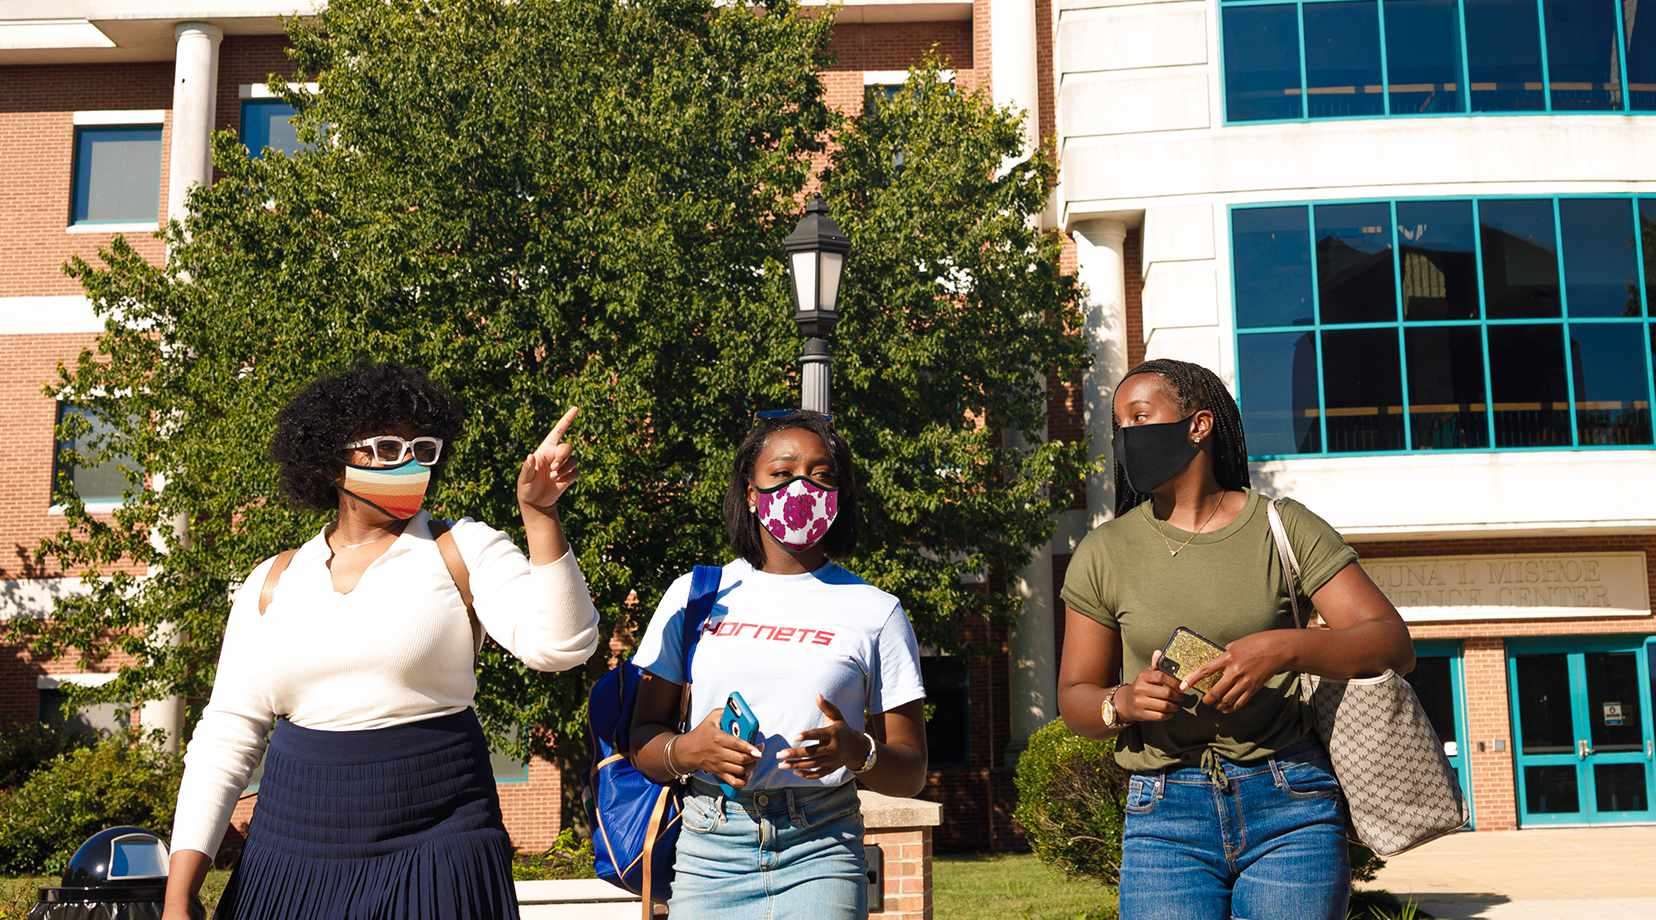with_mask: (346, 418, 429, 506), (762, 441, 830, 529), (1114, 389, 1179, 472)
